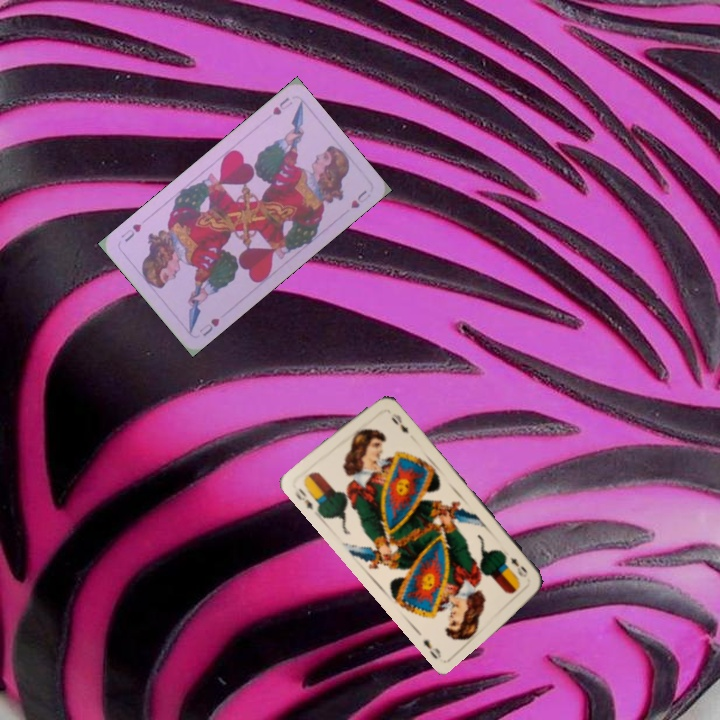EO: (291, 484, 316, 512), (507, 554, 530, 580)
HU: (195, 314, 222, 339), (268, 94, 295, 118)
